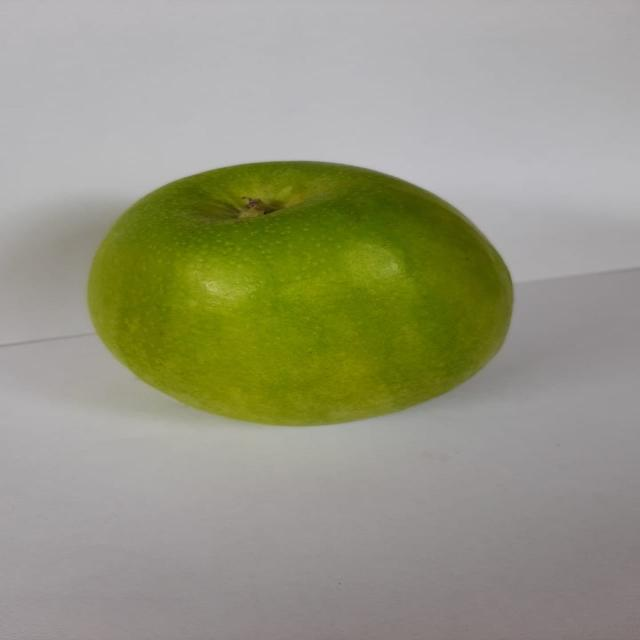50-_ripeness: (68, 150, 530, 436)
